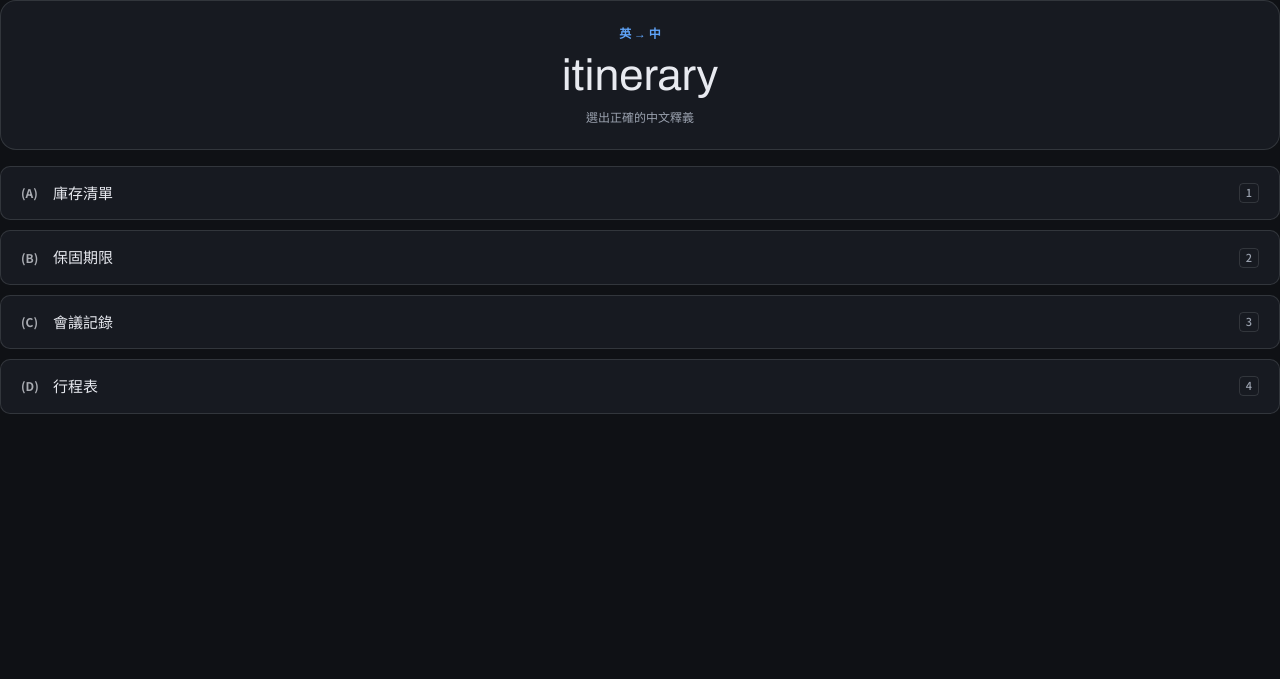
Scenario: VocabQuiz › spells out what the wrong pick actually meant
This screenshot has width=1280, height=679.
What coordinates should you click on to do the following:
click the button "(A) 庫存清單 1"
I would click on:
 (83, 192)
Its box is [0,166,1279,220].
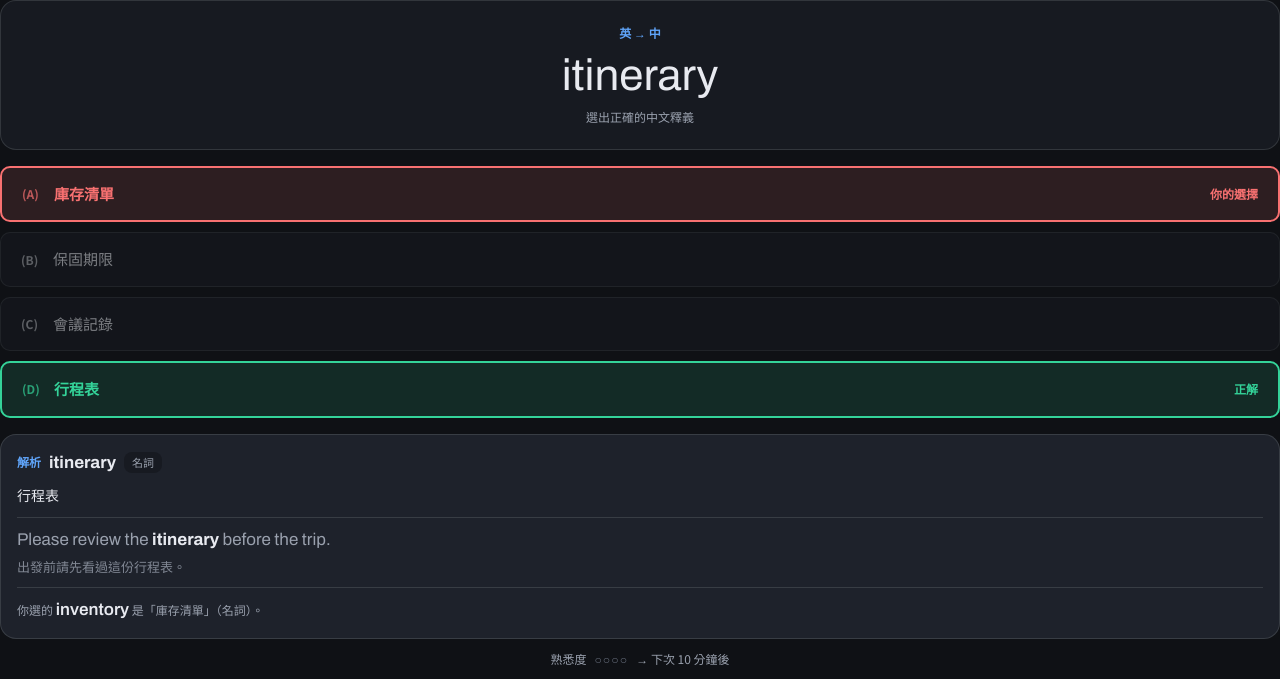
Expected: the text "你選的 inventory 是「庫存清單」（名詞）。" is shown, [17,587,1263,622]
